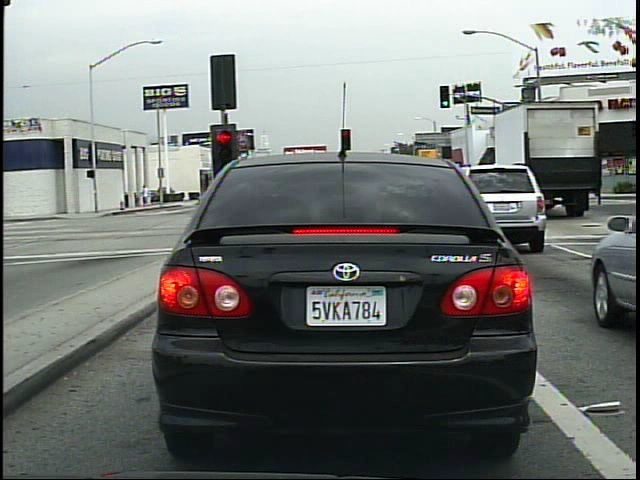person: (517, 169, 531, 202), (142, 183, 153, 211)
